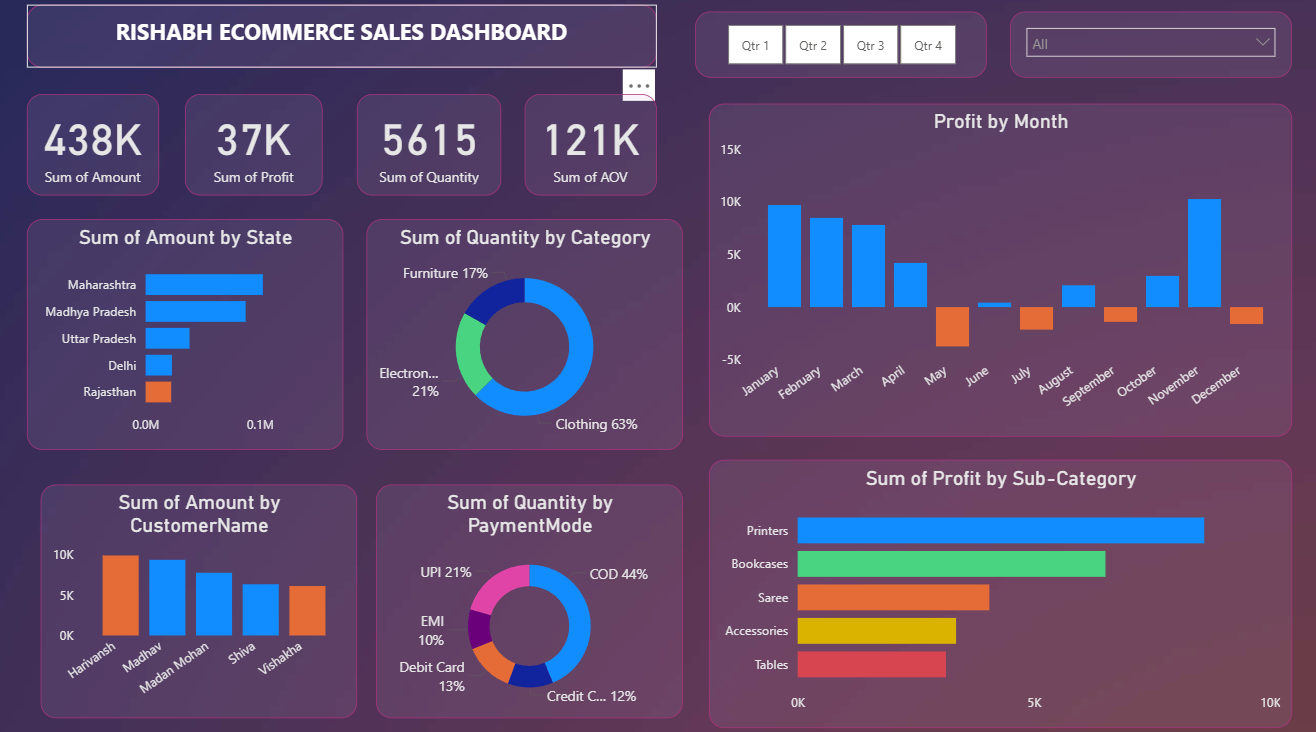

The page's visual inventory and layout, read from the dashboard file:
{"tool":"powerbi","page":{"name":"Page 1","canvas":[1280,720],"ordinal":0},"visuals":[{"type":"textbox","box":[27.9,9.3,609.3,61.2],"z":0},{"type":"columnChart","title":"Profit by Month","fields":{"Category":["Orders.Order Date.Variation.Date Hierarchy.Month"],"Y":["Sum(Details.Profit)"]},"box":[687.8,105.1,564.1,321.9],"z":1000},{"type":"barChart","fields":{"Category":["Details.Sub-Category"],"Y":["Sum(Details.Profit)"]},"box":[687.8,449.6,564.1,259.4],"z":2000},{"type":"donutChart","fields":{"Category":["Details.Category"],"Y":["Sum(Details.Quantity)"]},"box":[356.5,216.8,306,223.5],"z":3000},{"type":"donutChart","fields":{"Y":["Sum(Details.Quantity)"],"Series":["Details.PaymentMode"]},"box":[365.8,473.6,296.7,226.2],"z":4000},{"type":"card","fields":{"Values":["Sum(Details.Amount)"]},"box":[27.9,95.8,127.7,98.4],"z":5000},{"type":"card","fields":{"Values":["Sum(Details.Profit)"]},"box":[180.9,95.8,133,98.4],"z":6000},{"type":"card","fields":{"Values":["Sum(Details.Quantity)"]},"box":[347.2,95.8,139.7,98.4],"z":7000},{"type":"card","fields":{"Values":["Sum(Details.AOV)"]},"box":[509.5,95.8,127.7,98.4],"z":8000},{"type":"barChart","fields":{"Category":["Orders.State"],"Y":["Sum(Details.Amount)"]},"box":[27.9,216.8,306,223.5],"z":9000},{"type":"columnChart","fields":{"Category":["Orders.CustomerName"],"Y":["Sum(Details.Amount)"]},"box":[41.2,473.6,306,226.2],"z":10000},{"type":"slicer","fields":{"Values":["Orders.Order Date.Variation.Date Hierarchy.Quarter"]},"box":[674.5,16,282,63.9],"z":11000},{"type":"slicer","fields":{"Values":["Orders.State"]},"box":[979.1,16,272.7,63.9],"z":12000}]}

Visuals, with their boxes in screenshot pixels (x1, y1, x2, y2), scaled from the page's 1280x720 canvas onto the 1316x732 screenshot:
textbox: [left=29, top=9, right=655, bottom=72]
"Profit by Month" columnChart: [left=707, top=107, right=1287, bottom=434]
barChart - Details.Sub-Category x Sum(Details.Profit): [left=707, top=457, right=1287, bottom=721]
donutChart - Details.Category x Sum(Details.Quantity): [left=367, top=220, right=681, bottom=448]
donutChart - Sum(Details.Quantity) x Details.PaymentMode: [left=376, top=481, right=681, bottom=711]
card - Sum(Details.Amount): [left=29, top=97, right=160, bottom=197]
card - Sum(Details.Profit): [left=186, top=97, right=323, bottom=197]
card - Sum(Details.Quantity): [left=357, top=97, right=501, bottom=197]
card - Sum(Details.AOV): [left=524, top=97, right=655, bottom=197]
barChart - Orders.State x Sum(Details.Amount): [left=29, top=220, right=343, bottom=448]
columnChart - Orders.CustomerName x Sum(Details.Amount): [left=42, top=481, right=357, bottom=711]
slicer - Orders.Order Date.Variation.Date Hierarchy.Quarter: [left=693, top=16, right=983, bottom=81]
slicer - Orders.State: [left=1007, top=16, right=1287, bottom=81]
